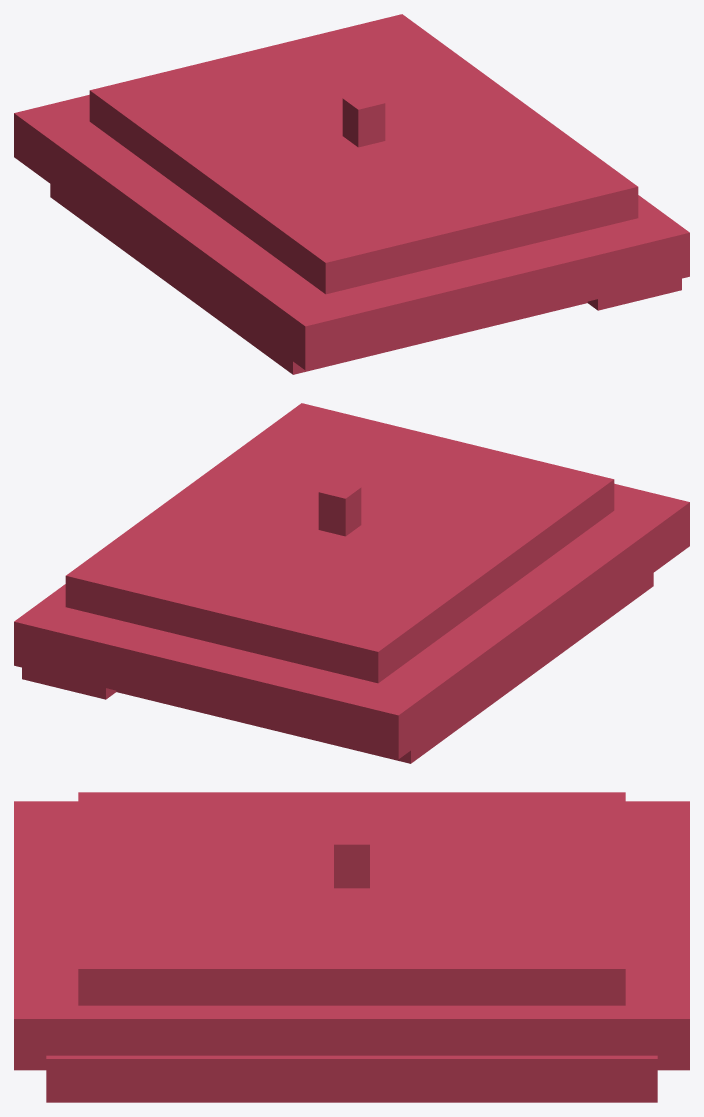
File: boina_francesa.glb
3 views of the same model, one above another, from view 1: azimuth 30°, elevation 25°; view 2: azimuth 150°, elevation 25°; view 3: azimuth 270°, elevation 25° (orthographic). The views are drawn at different scales.
Visible parts, largest first — view 1: boina_francesa; view 2: boina_francesa; view 3: boina_francesa.
Boxes of the visible parts, x1=… form: boina_francesa: x1=14, y1=14, x2=689, y2=374; boina_francesa: x1=14, y1=403, x2=689, y2=763; boina_francesa: x1=14, y1=792, x2=689, y2=1102.
Size of the model in its own units: 0.65 by 0.22 by 0.84.
